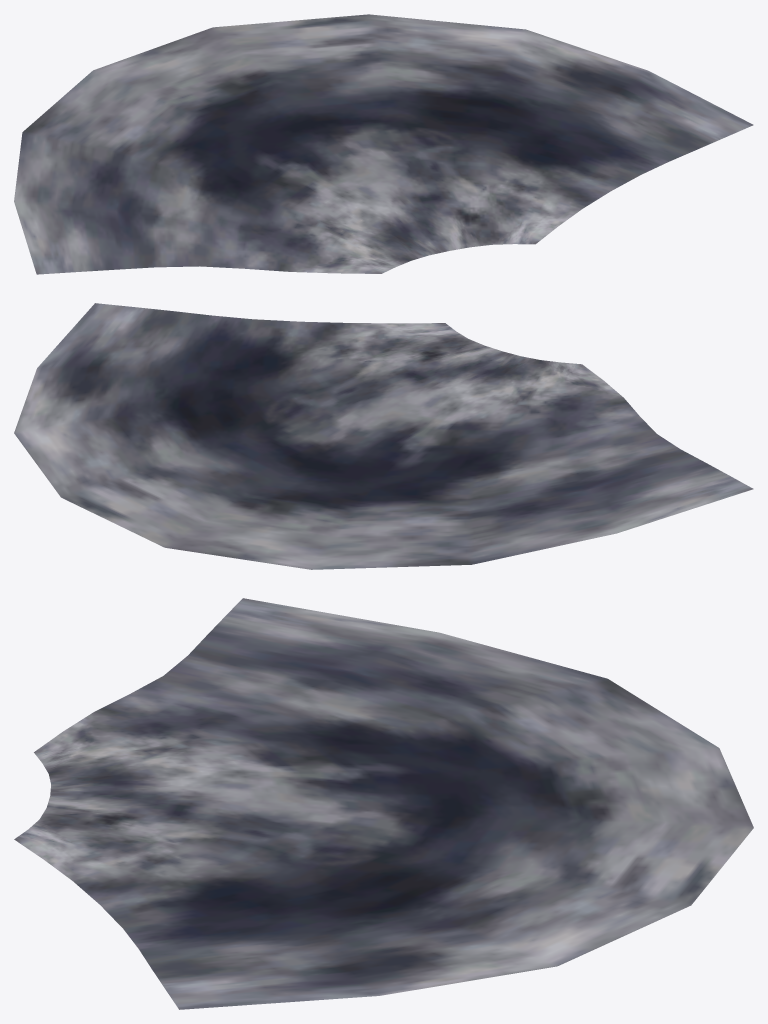
File: CB_NEWPLAYSURFACE_CB_WATERFALLS18.fbx
The picture shows the model from 3 angles, top to bottom: view 1: azimuth 30°, elevation 25°; view 2: azimuth 150°, elevation 25°; view 3: azimuth 270°, elevation 25°; orthographic projection. The views are drawn at different scales.
Parts seen in each view (by area): view 1: CB_NEWPLAYSURFACE_CB_WATERFALLS18; view 2: CB_NEWPLAYSURFACE_CB_WATERFALLS18; view 3: CB_NEWPLAYSURFACE_CB_WATERFALLS18.
Boxes of the visible parts, left/top/right/bottom form: CB_NEWPLAYSURFACE_CB_WATERFALLS18: left=14, top=14, right=753, bottom=274; CB_NEWPLAYSURFACE_CB_WATERFALLS18: left=14, top=303, right=753, bottom=569; CB_NEWPLAYSURFACE_CB_WATERFALLS18: left=14, top=598, right=753, bottom=1009.
Size of the model in its own units: 180064 by 1594 by 136759.
1 material, 1 textured.
